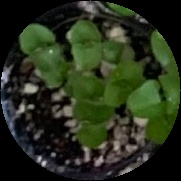Basil: (20, 23, 67, 85), (129, 72, 181, 117), (62, 66, 116, 107), (69, 102, 110, 145), (105, 60, 138, 109), (72, 18, 102, 68)
